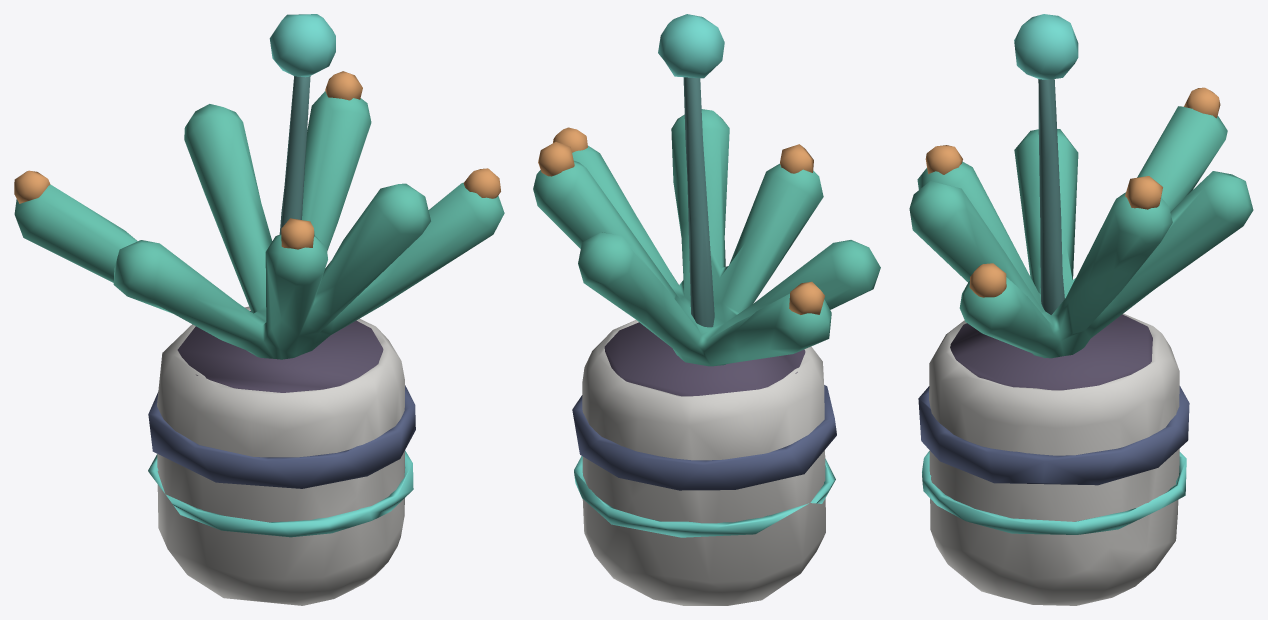
The model's file is plant.glb.
3 renders of one model, left to right at view 1: azimuth 30°, elevation 25°; view 2: azimuth 150°, elevation 25°; view 3: azimuth 270°, elevation 25°, orthographic. The views are drawn at different scales.
Parts seen in each view (by area): view 1: plant, plant_glow, plant_pot_glow; view 2: plant, plant_glow, plant_pot_glow; view 3: plant, plant_glow, plant_pot_glow.
Part boxes in pixels (<box>): plant: <box>14,76,504,605</box>; plant_glow: <box>14,14,500,249</box>; plant_pot_glow: <box>148,450,413,537</box>; plant: <box>533,77,880,605</box>; plant_glow: <box>538,14,824,314</box>; plant_pot_glow: <box>574,456,835,537</box>; plant: <box>909,79,1253,605</box>; plant_glow: <box>925,14,1220,297</box>; plant_pot_glow: <box>922,451,1186,534</box>.
Bounding box in the file's own units: 1.08 × 1.49 × 0.8249.
